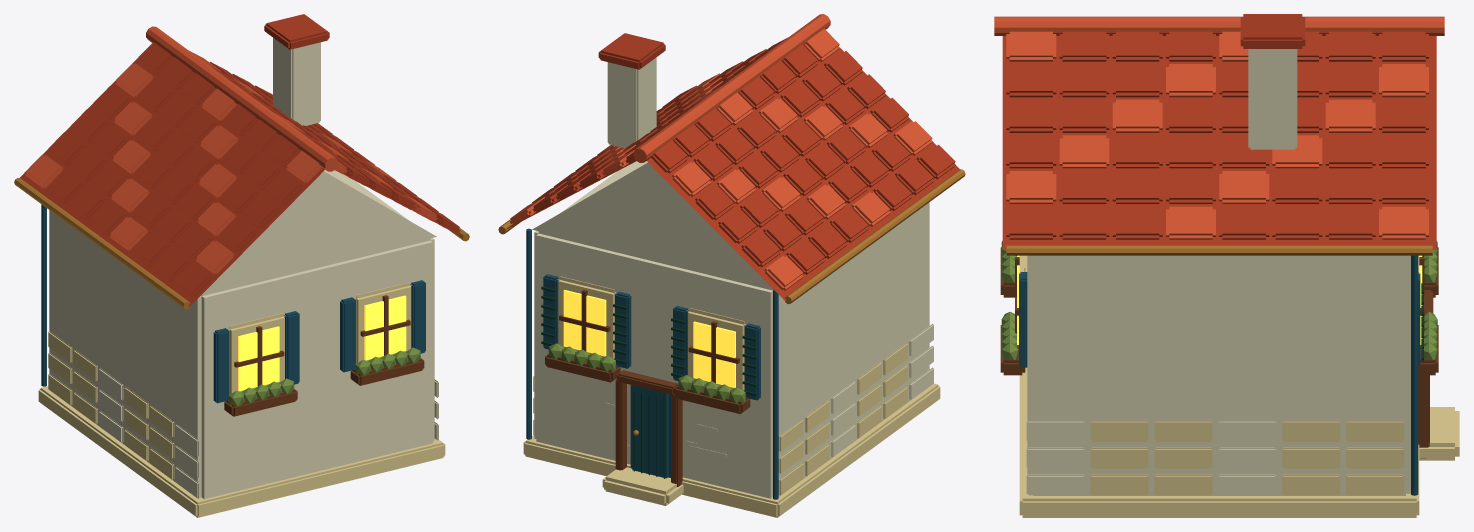
Rendered from house_2.glb.
The picture shows the model from 3 angles, left to right: view 1: azimuth 30°, elevation 25°; view 2: azimuth 150°, elevation 25°; view 3: azimuth 270°, elevation 25°; orthographic projection. The views are drawn at different scales.
Parts seen in each view (by area): view 1: House.002Mesh; view 2: House.002Mesh; view 3: House.002Mesh.
Part boxes in pixels (x1=…): House.002Mesh: x1=14, y1=14, x2=469, y2=517; House.002Mesh: x1=498, y1=14, x2=965, y2=517; House.002Mesh: x1=994, y1=14, x2=1459, y2=517.
Size of the model in its own units: 5.07 by 6.25 by 5.68.
